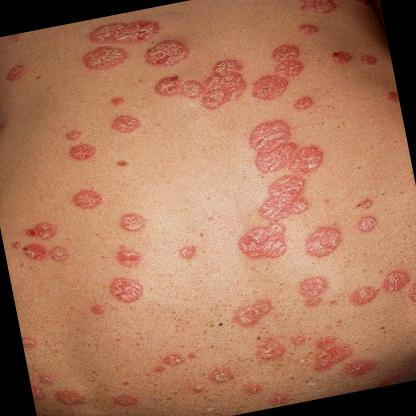Psoriasis: (239, 107, 327, 183), (173, 52, 252, 116), (251, 170, 320, 225), (82, 12, 166, 53), (232, 218, 297, 268), (139, 33, 193, 76), (301, 330, 355, 372), (224, 294, 281, 332), (266, 37, 312, 82), (73, 43, 130, 76), (304, 220, 347, 260), (106, 272, 150, 311), (242, 70, 292, 104), (105, 107, 150, 142), (375, 264, 415, 299), (49, 380, 88, 413), (250, 334, 290, 364), (290, 0, 347, 20), (294, 272, 334, 300), (342, 354, 379, 384), (66, 186, 104, 215), (150, 71, 188, 100), (106, 244, 144, 272), (24, 218, 58, 246), (113, 208, 148, 235), (18, 237, 50, 266), (348, 282, 380, 310), (62, 141, 96, 164), (44, 242, 74, 267), (236, 376, 266, 400), (205, 363, 237, 385), (2, 62, 31, 86), (265, 386, 296, 408), (326, 48, 355, 70), (356, 212, 382, 235), (399, 273, 416, 306), (112, 391, 139, 411), (160, 346, 184, 368), (58, 123, 84, 142), (292, 93, 315, 113), (298, 20, 322, 39), (86, 300, 108, 318), (106, 92, 130, 108), (360, 51, 380, 70), (350, 194, 372, 210), (179, 242, 197, 261), (384, 86, 400, 106), (407, 296, 416, 328)
